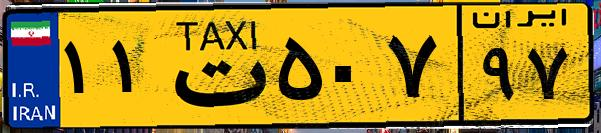0: (330, 28, 385, 110)
1: (57, 26, 110, 100), (110, 28, 158, 98)
5: (270, 28, 330, 110)
7: (385, 28, 445, 110), (525, 38, 570, 115)
9: (475, 38, 525, 113)
ت: (158, 12, 270, 120)
